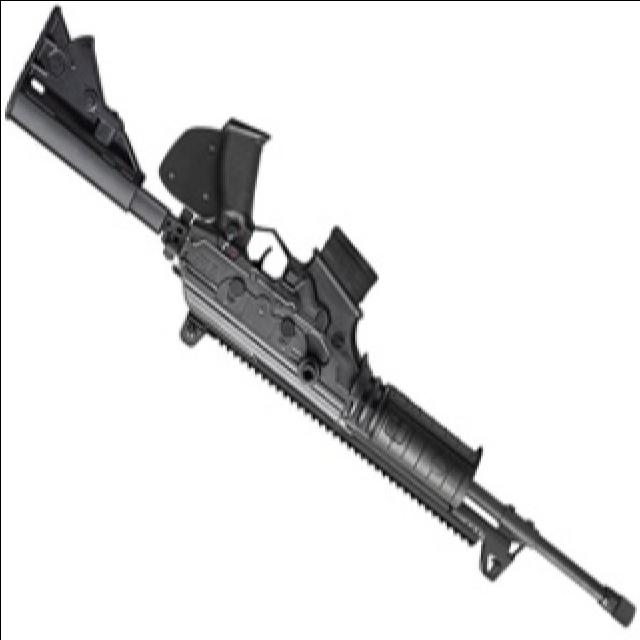rifle: (3, 4, 640, 637)
